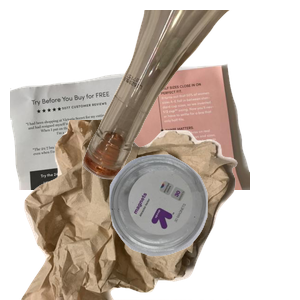glass: (80, 10, 300, 182)
paper: (10, 61, 250, 241)
plastic: (107, 152, 300, 300)
trash: (19, 120, 249, 300)
